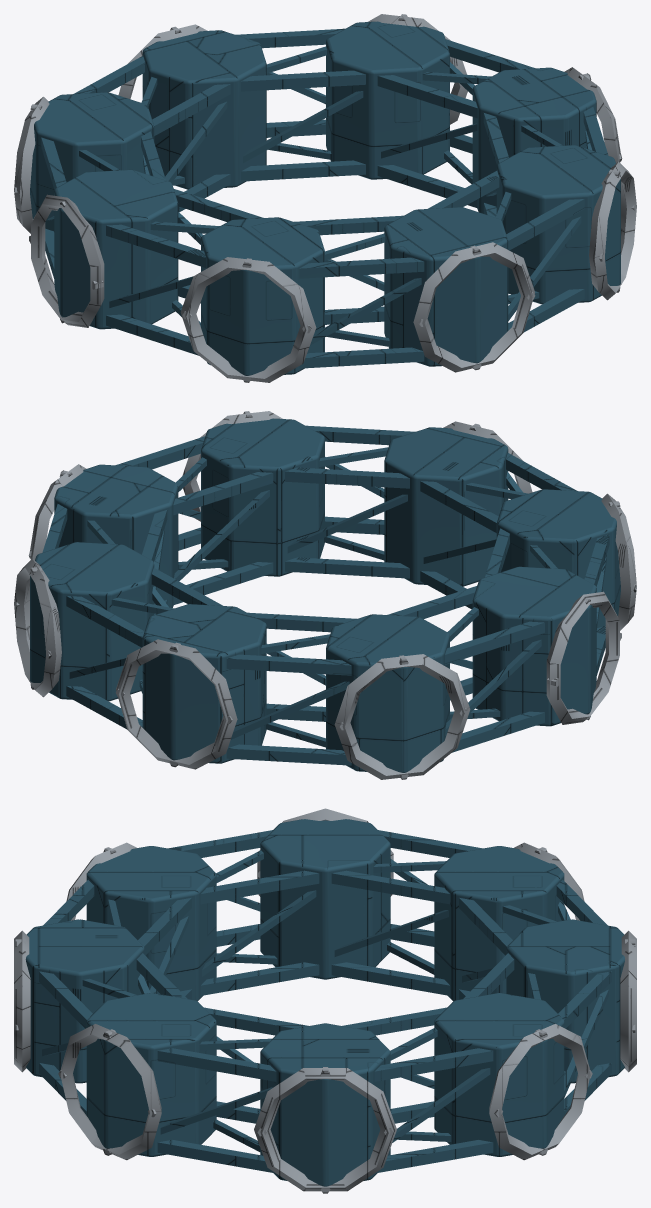
The model's file is truss_octagonal_hub_lod1.glb.
3 renders of one model, top to bottom at view 1: azimuth 30°, elevation 25°; view 2: azimuth 150°, elevation 25°; view 3: azimuth 270°, elevation 25°, orthographic.
Parts seen in each view (by area): view 1: LOD1_Armor, LOD1_BrushedMetal; view 2: LOD1_Armor, LOD1_BrushedMetal; view 3: LOD1_Armor, LOD1_BrushedMetal.
Part boxes in pixels (bbox=[...]): LOD1_Armor: bbox=[30, 21, 620, 375]; LOD1_BrushedMetal: bbox=[14, 14, 636, 382]; LOD1_Armor: bbox=[30, 418, 620, 772]; LOD1_BrushedMetal: bbox=[14, 411, 636, 779]; LOD1_Armor: bbox=[25, 819, 624, 1186]; LOD1_BrushedMetal: bbox=[14, 808, 636, 1193].
Size of the model in its own units: 7.09 by 1.63 by 7.09.
2 materials, 2 textured.
